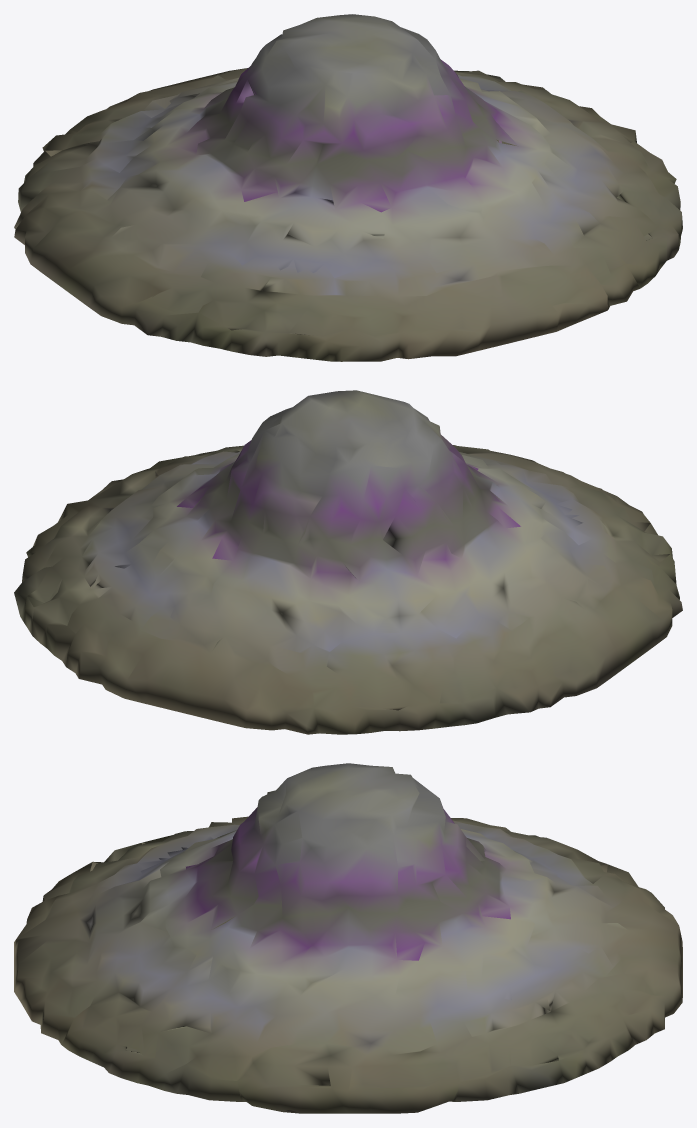
The model's file is floating_disc.glb.
The picture shows the model from 3 angles, top to bottom: view 1: azimuth 30°, elevation 25°; view 2: azimuth 150°, elevation 25°; view 3: azimuth 270°, elevation 25°; orthographic projection. The views are drawn at different scales.
Parts seen in each view (by area): view 1: Turret; view 2: Turret; view 3: Turret.
Boxes of the visible parts, box(x1,y1,x2,y2) form: Turret: box(14, 14, 682, 361); Turret: box(14, 390, 682, 734); Turret: box(14, 763, 682, 1113).
Size of what is drawn, in the model's own units: 6.14 by 2.85 by 6.14.
